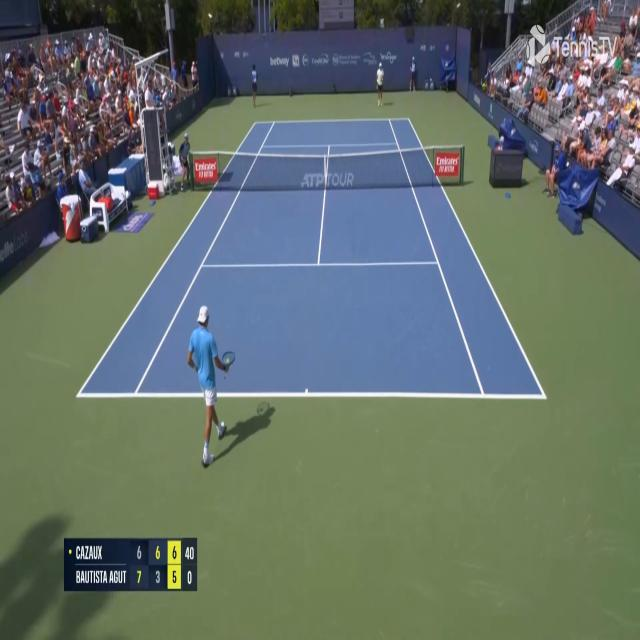tennis-player: (186, 304, 237, 472), (375, 61, 385, 108)
